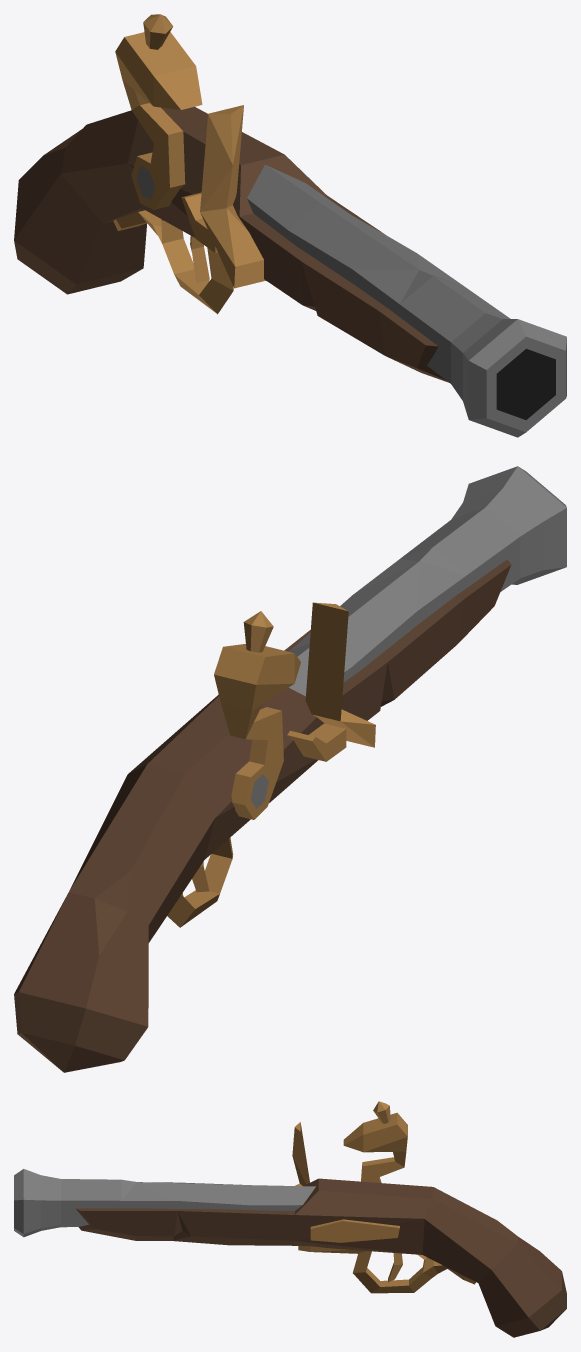
File: SM_Wep_MusketPistol_04_Separate.glb
The picture shows the model from 3 angles, top to bottom: view 1: azimuth 30°, elevation 25°; view 2: azimuth 150°, elevation 25°; view 3: azimuth 270°, elevation 25°; orthographic projection. The views are drawn at different scales.
Parts seen in each view (by area): view 1: SM_Wep_MusketPistol_04_Trigger; view 2: SM_Wep_MusketPistol_04_Trigger; view 3: SM_Wep_MusketPistol_04_Trigger.
Boxes of the visible parts, <box> form: SM_Wep_MusketPistol_04_Trigger: <box>14,14,566,437</box>; SM_Wep_MusketPistol_04_Trigger: <box>14,466,566,1072</box>; SM_Wep_MusketPistol_04_Trigger: <box>14,1101,566,1337</box>.
Size of the model in its own units: 0.000955 by 0.00246 by 0.00574.
